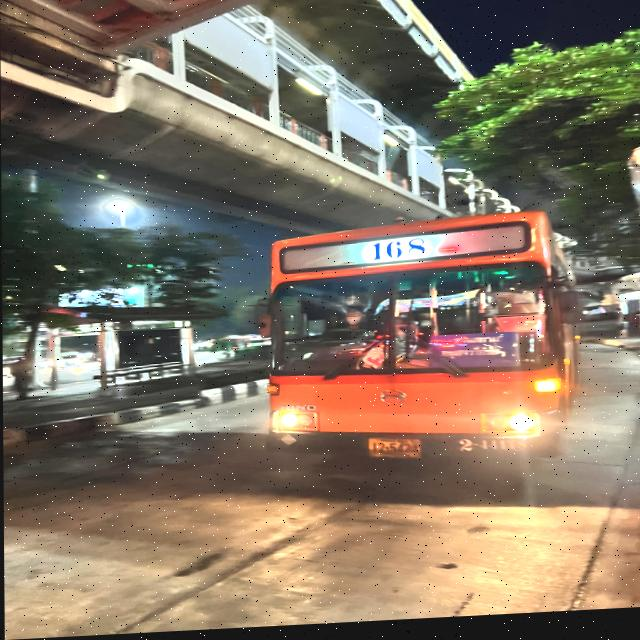BMTA-bus: (264, 216, 581, 475)
Bus-Line-Number: (361, 239, 432, 267)
Destination-Sign-Normal: (431, 335, 520, 376)
